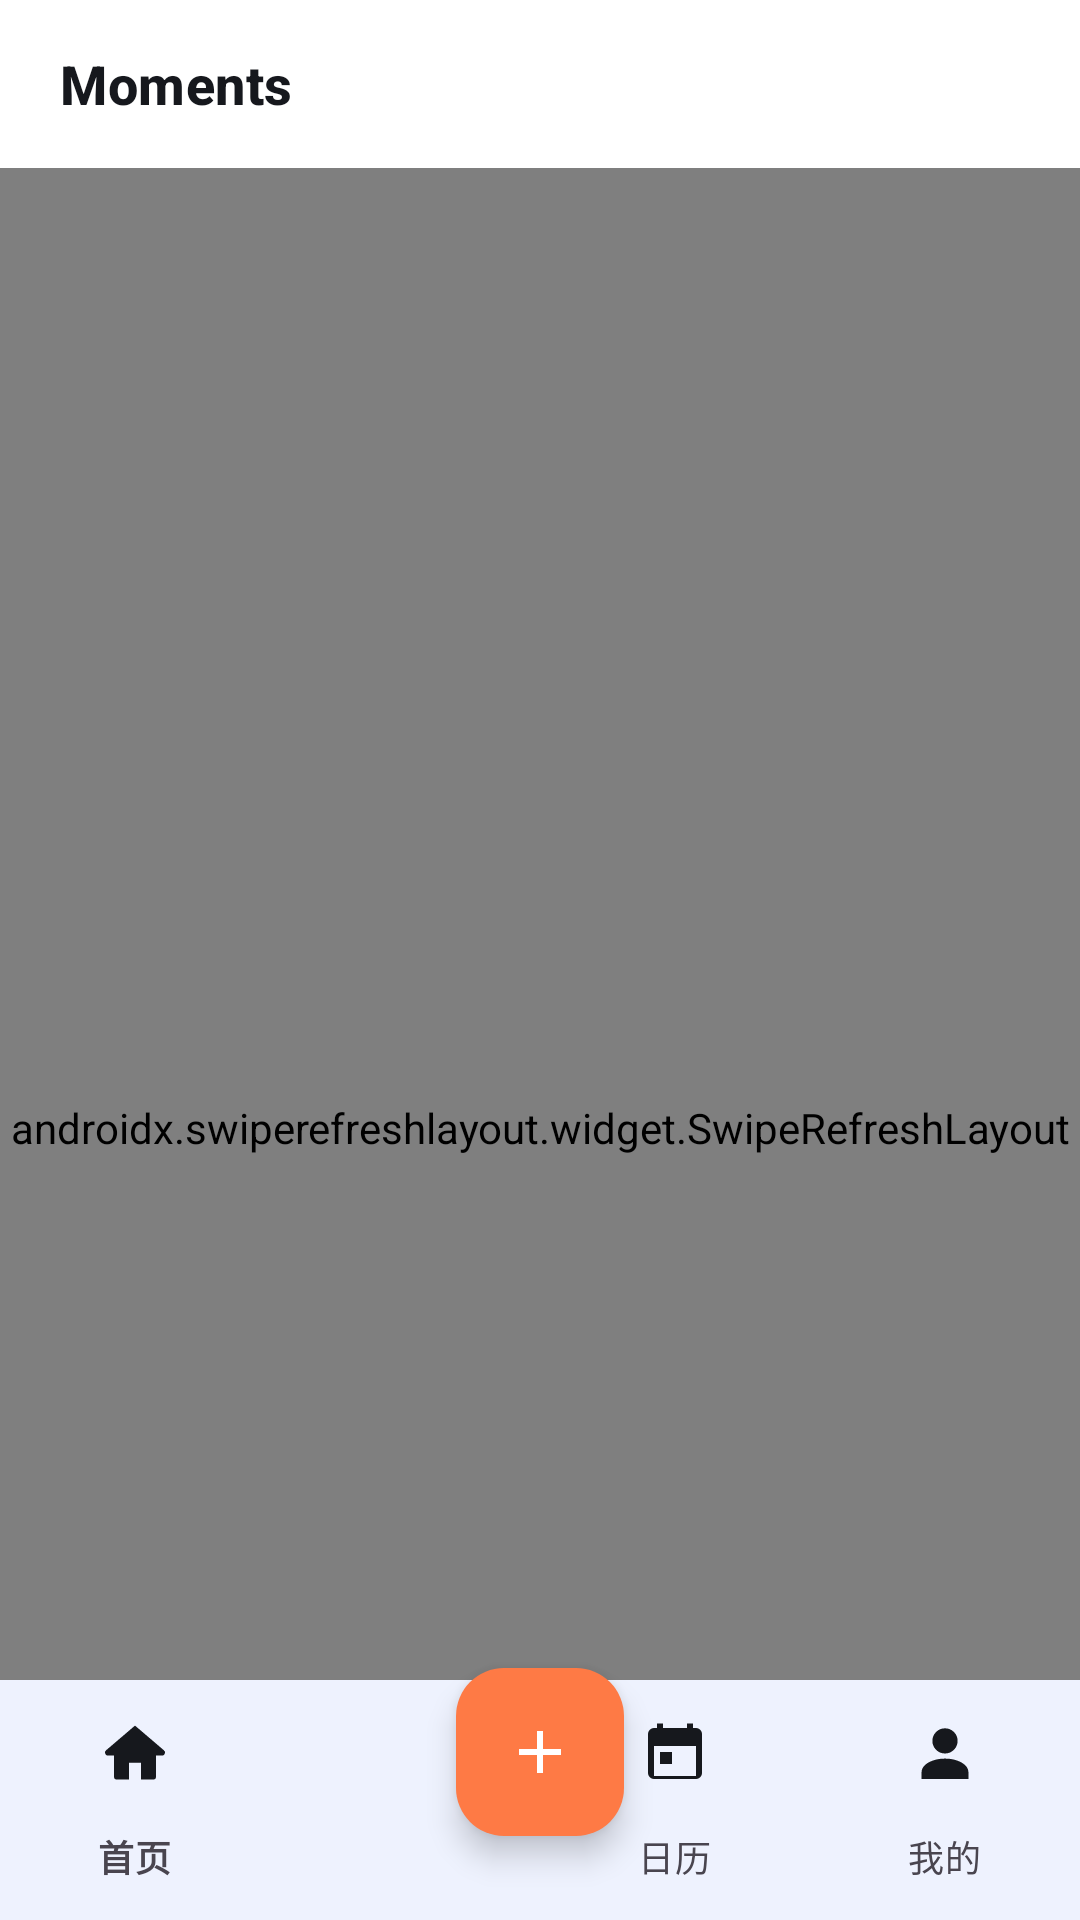

Icons on this 1080w x 1920h Android screen, each with the point to tap as point (x, y):
写点什么: point (540, 1752)
